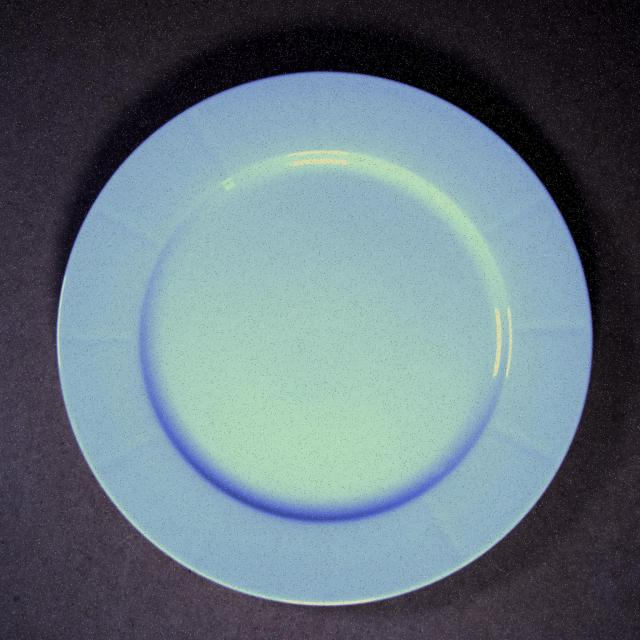plate: (58, 72, 592, 605)
